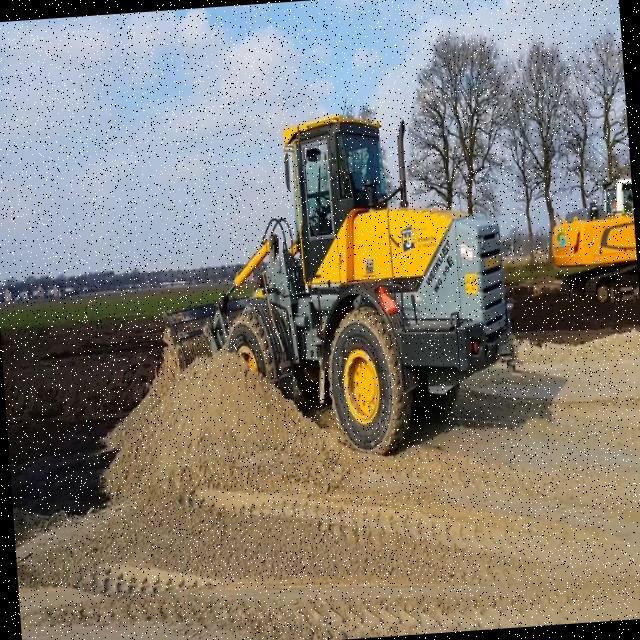Excavator: (546, 176, 640, 308)
Loader: (144, 86, 528, 470)
